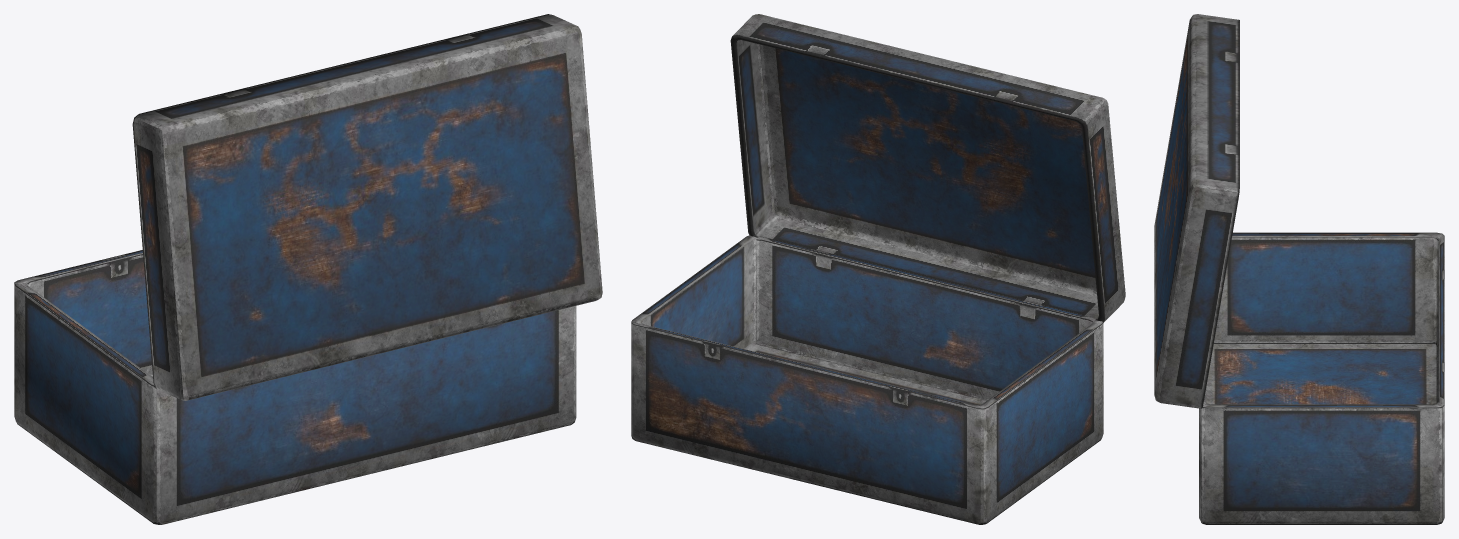
The model's file is Chest.dae.
3 views of the same model, side by side, from view 1: azimuth 30°, elevation 25°; view 2: azimuth 150°, elevation 25°; view 3: azimuth 270°, elevation 25° (orthographic). The views are drawn at different scales.
Visible parts, largest first — view 1: Chest_top, Chest_body; view 2: Chest_body, Chest_top; view 3: Chest_body, Chest_top.
Part boxes in pixels (bbox=[...]): Chest_top: bbox=[132, 14, 602, 400]; Chest_body: bbox=[14, 250, 576, 524]; Chest_body: bbox=[631, 235, 1103, 524]; Chest_top: bbox=[730, 14, 1125, 322]; Chest_body: bbox=[1199, 232, 1444, 524]; Chest_top: bbox=[1154, 14, 1239, 408].
Bounding box in the file's own units: 0.1409 × 0.0988 × 0.1283.
1 material, 1 textured.
